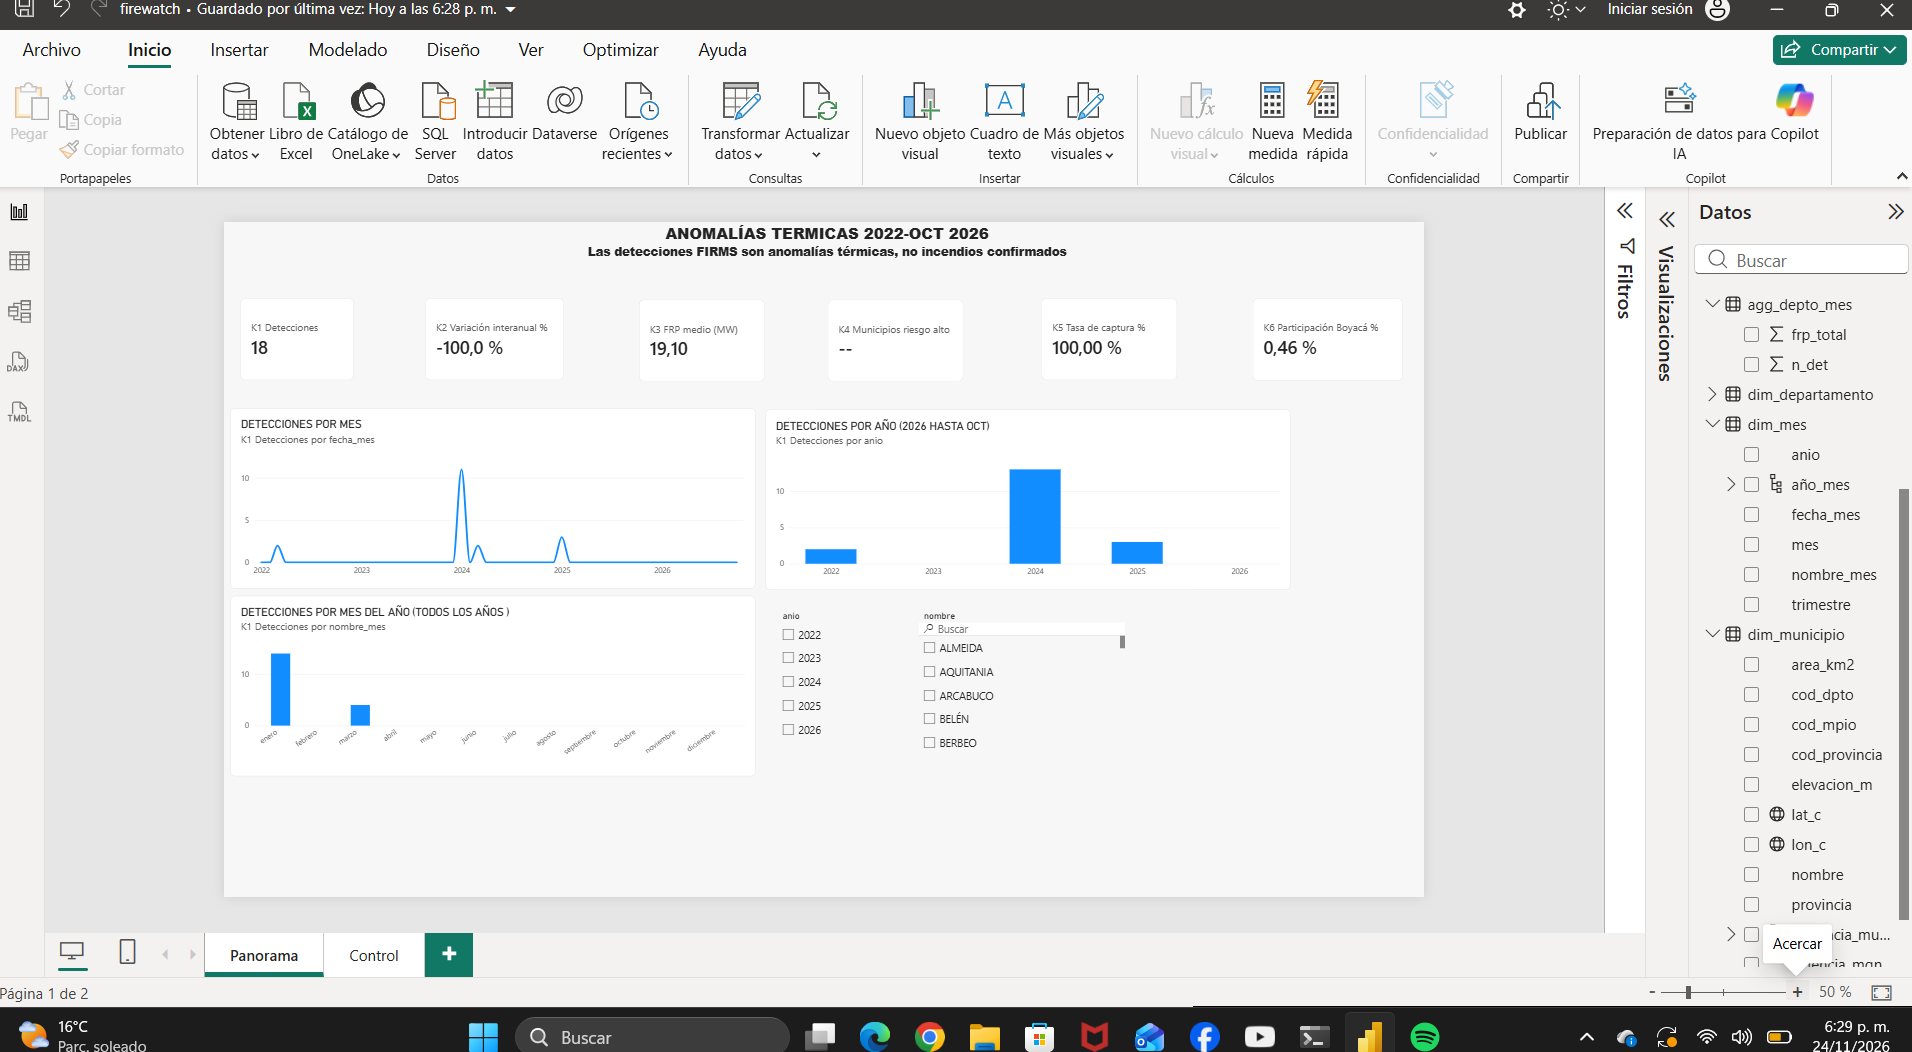

Layout of this report page (visuals, bound fields, positions):
{"tool":"powerbi","page":{"name":"PANORAMA","canvas":[1920,1080],"ordinal":0},"visuals":[{"type":"textbox","box":[10,0,1910,288.6],"z":0},{"type":"cardVisual","fields":{"Data":["_Medidas.K1 Detecciones"]},"box":[26.8,122.7,182.5,132],"z":1000},{"type":"cardVisual","fields":{"Data":["_Medidas.K2 Variación interanual %"]},"box":[322.9,122.9,222.7,132],"z":2000},{"type":"cardVisual","fields":{"Data":["_Medidas.K3 FRP medio (MW)"]},"box":[664.1,123.4,201,132],"z":3000},{"type":"cardVisual","fields":{"Data":["_Medidas.K4 Municipios riesgo alto"]},"box":[965.7,124.3,217.5,132],"z":4000},{"type":"cardVisual","fields":{"Data":["_Medidas.K5 Tasa de captura %"]},"box":[1307.1,122.9,217.5,132],"z":5000},{"type":"cardVisual","fields":{"Data":["_Medidas.K6 Participación Boyacá %"]},"box":[1645.7,122.9,240,132.5],"z":6000},{"type":"lineChart","title":"DETECCIONES POR MES","fields":{"Category":["dim_mes.fecha_mes"],"Y":["_Medidas.K1 Detecciones"]},"box":[9.4,298.4,840.6,289.1],"z":7000},{"type":"columnChart","title":"DETECCIONES POR AÑO (2026 HASTA  OCT)","fields":{"Category":["dim_mes.anio"],"Y":["_Medidas.K1 Detecciones"]},"box":[865.6,300,841,289],"z":8000},{"type":"columnChart","title":"DETECCIONES POR MES DEL AÑO (TODOS LOS AÑOS )","fields":{"Category":["dim_mes.nombre_mes"],"Y":["_Medidas.K1 Detecciones"]},"box":[9,597,841,289],"z":9000},{"type":"slicer","fields":{"Values":["dim_mes.anio"]},"box":[886,622,202,236],"z":10000},{"type":"slicer","fields":{"Values":["dim_municipio.nombre"]},"box":[1111.8,622.1,329.4,222.1],"z":11000}]}

Visuals, with their boxes on the page's 1920x1080 design canvas (x1, y1, x2, y2). These are canvas units, not pixel positions in the 1912x1052 screenshot, which may show the page scaled, cropped or inside an application window:
textbox: l=10, t=0, r=1920, b=289
cardVisual - _Medidas.K1 Detecciones: l=27, t=123, r=209, b=255
cardVisual - _Medidas.K2 Variación interanual %: l=323, t=123, r=546, b=255
cardVisual - _Medidas.K3 FRP medio (MW): l=664, t=123, r=865, b=255
cardVisual - _Medidas.K4 Municipios riesgo alto: l=966, t=124, r=1183, b=256
cardVisual - _Medidas.K5 Tasa de captura %: l=1307, t=123, r=1525, b=255
cardVisual - _Medidas.K6 Participación Boyacá %: l=1646, t=123, r=1886, b=255
"DETECCIONES POR MES" lineChart: l=9, t=298, r=850, b=588
"DETECCIONES POR AÑO (2026 HASTA  OCT)" columnChart: l=866, t=300, r=1707, b=589
"DETECCIONES POR MES DEL AÑO (TODOS LOS AÑOS )" columnChart: l=9, t=597, r=850, b=886
slicer - dim_mes.anio: l=886, t=622, r=1088, b=858
slicer - dim_municipio.nombre: l=1112, t=622, r=1441, b=844
